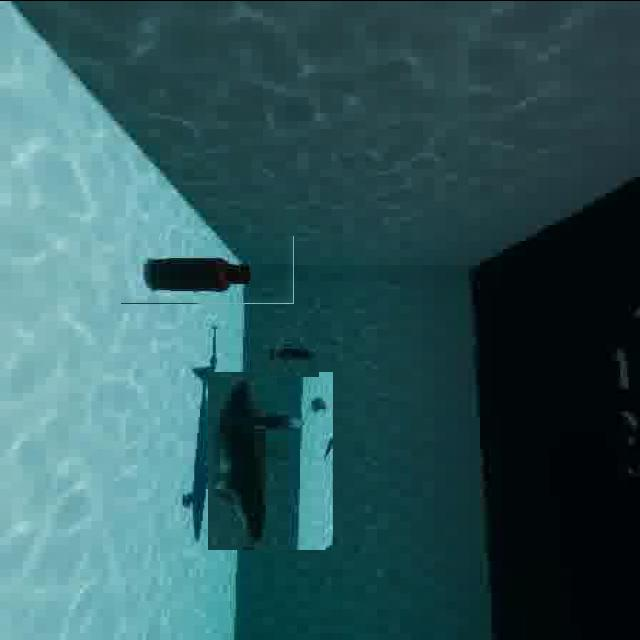Cylinder: (121, 235, 294, 303)
Whale: (206, 371, 332, 549), (269, 326, 319, 376)
